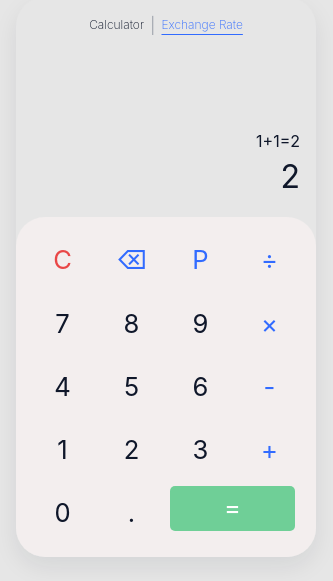
Scenario: Calculator › switches to currency view when toggled
Click the button "Exchange Rate". click: x=202, y=25
box: [162,16,243,34]
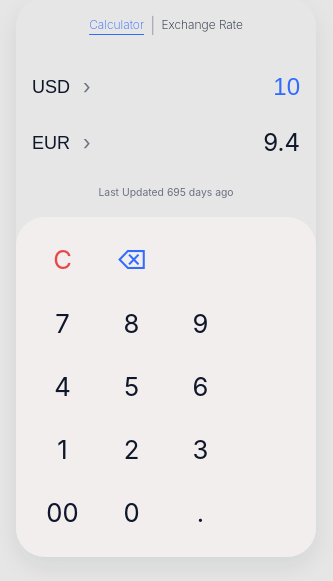
Expected: the number of dropdowns is 2, [32,77,71,97]; [32,133,71,153]
Expected: the text "9.4" is shown, [263,128,300,157]
Expected: the button "Calculator" is shown, [89,16,144,34]
